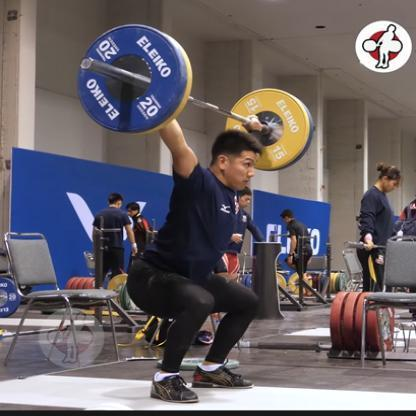barbell: (76, 22, 315, 172)
